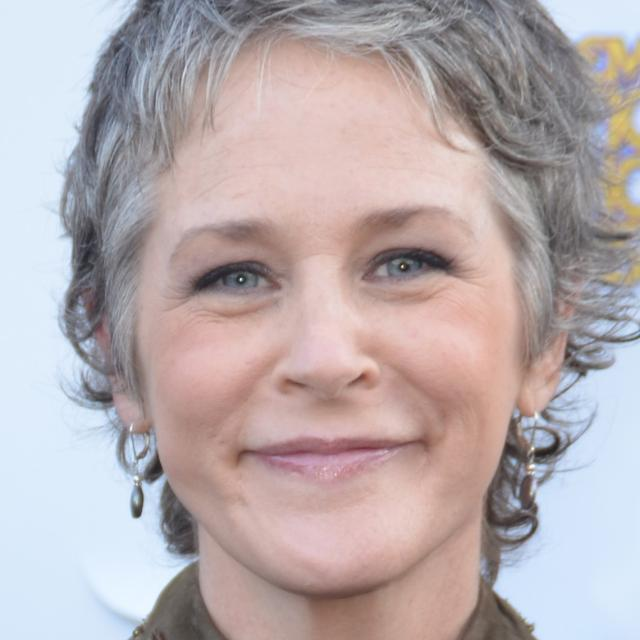Normal: (135, 34, 528, 601)
